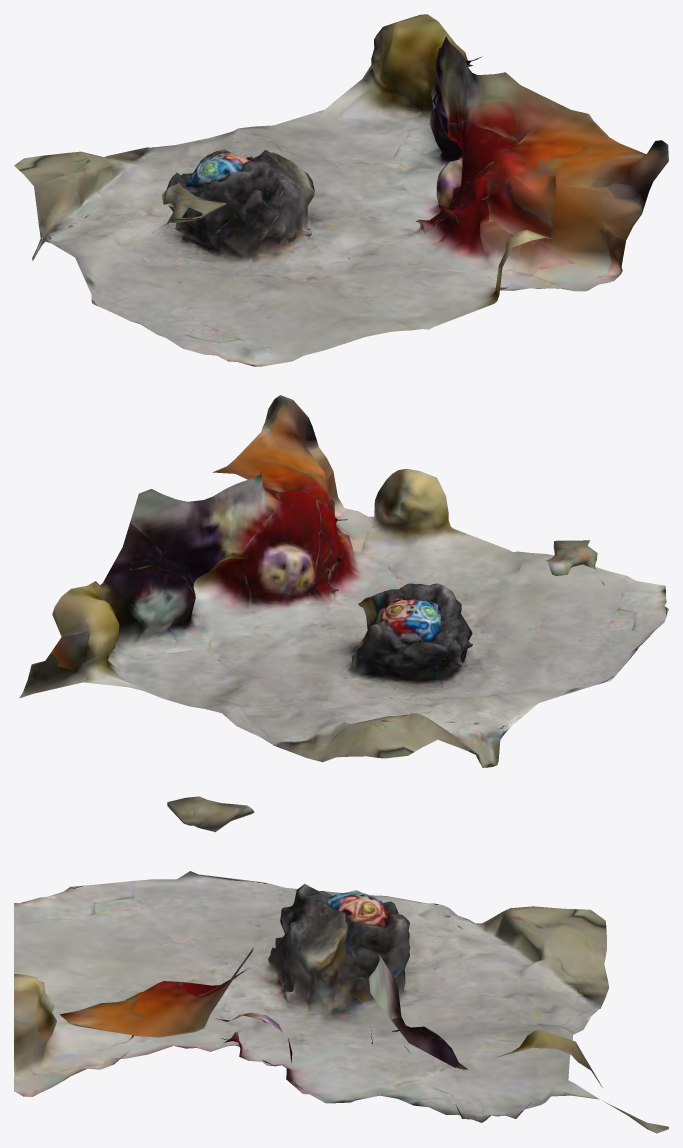
File: hall.glb
3 renders of one model, top to bottom at view 1: azimuth 30°, elevation 25°; view 2: azimuth 150°, elevation 25°; view 3: azimuth 270°, elevation 25°, orthographic. The views are drawn at different scales.
Size of the model in its own units: 3.15 by 1.09 by 3.49.
1 material, 1 textured.
